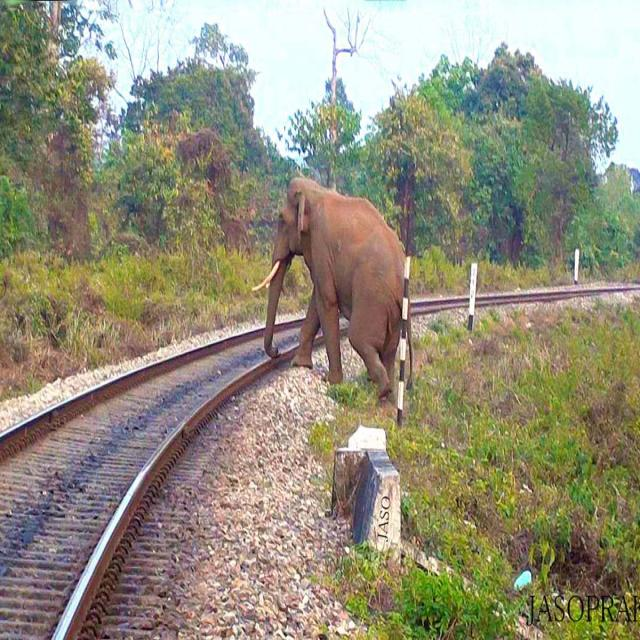Elephant: (254, 163, 421, 407)
